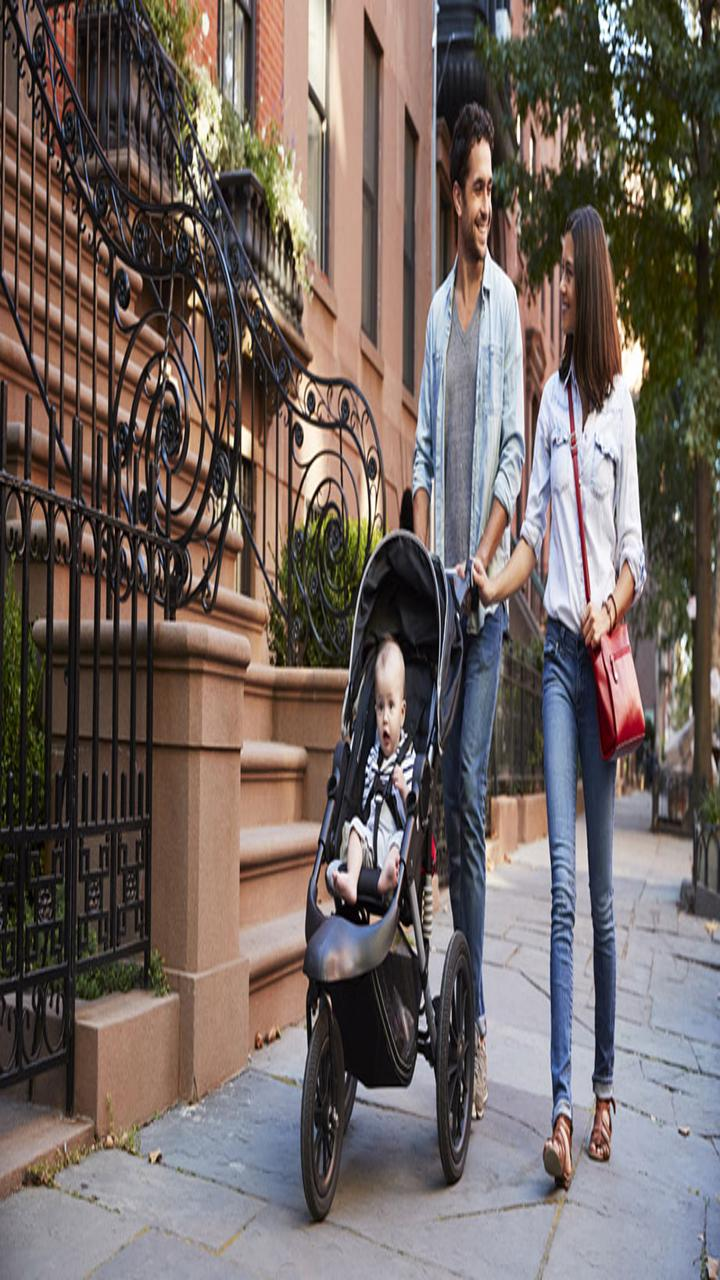pedestrian: (522, 209, 660, 1216), (401, 108, 532, 1115), (299, 553, 495, 1209)
